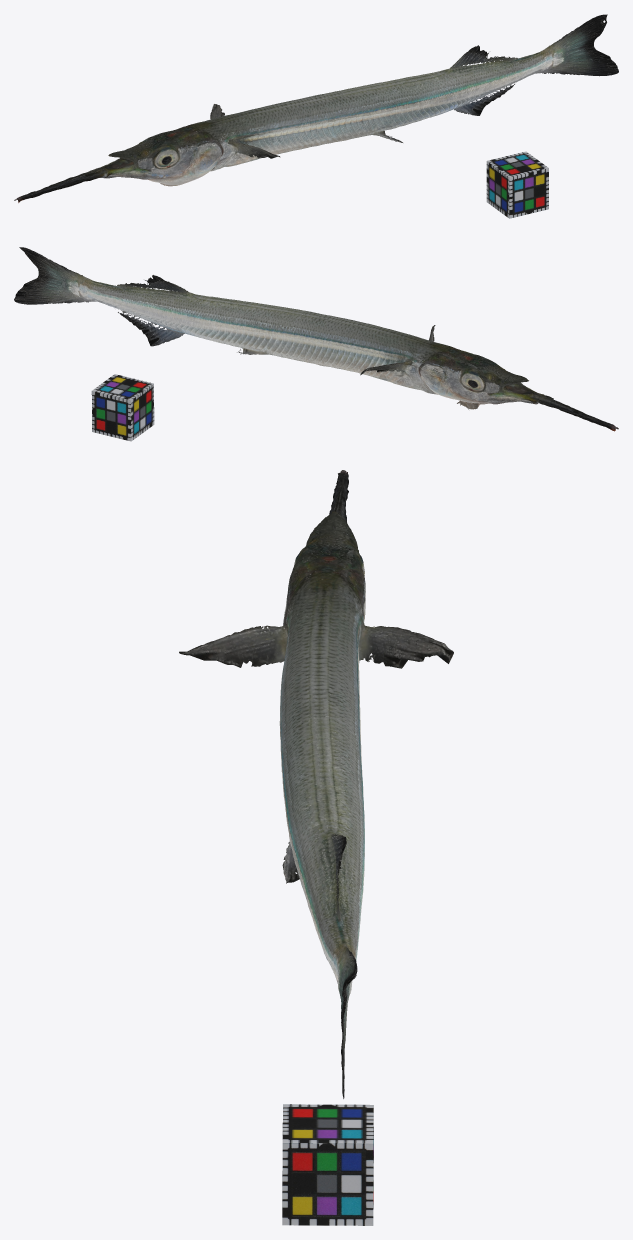
The model's file is sayori.glb.
The picture shows the model from 3 angles, top to bottom: view 1: azimuth 30°, elevation 25°; view 2: azimuth 150°, elevation 25°; view 3: azimuth 270°, elevation 25°; orthographic projection. The views are drawn at different scales.
Visible parts, largest first — view 1: hire_5, Cube_2; view 2: hire_5, Cube_2; view 3: hire_5, Cube_2.
Boxes of the visible parts, x1,y1,x2,y2 form: hire_5: [14, 14, 618, 202]; Cube_2: [486, 151, 548, 218]; hire_5: [14, 247, 618, 431]; Cube_2: [91, 374, 154, 441]; hire_5: [179, 470, 453, 1098]; Cube_2: [282, 1104, 373, 1225].
Bounding box in the file's own units: 9.12 × 2.39 × 1.8.
Materials: 3 (3 with a texture image).
